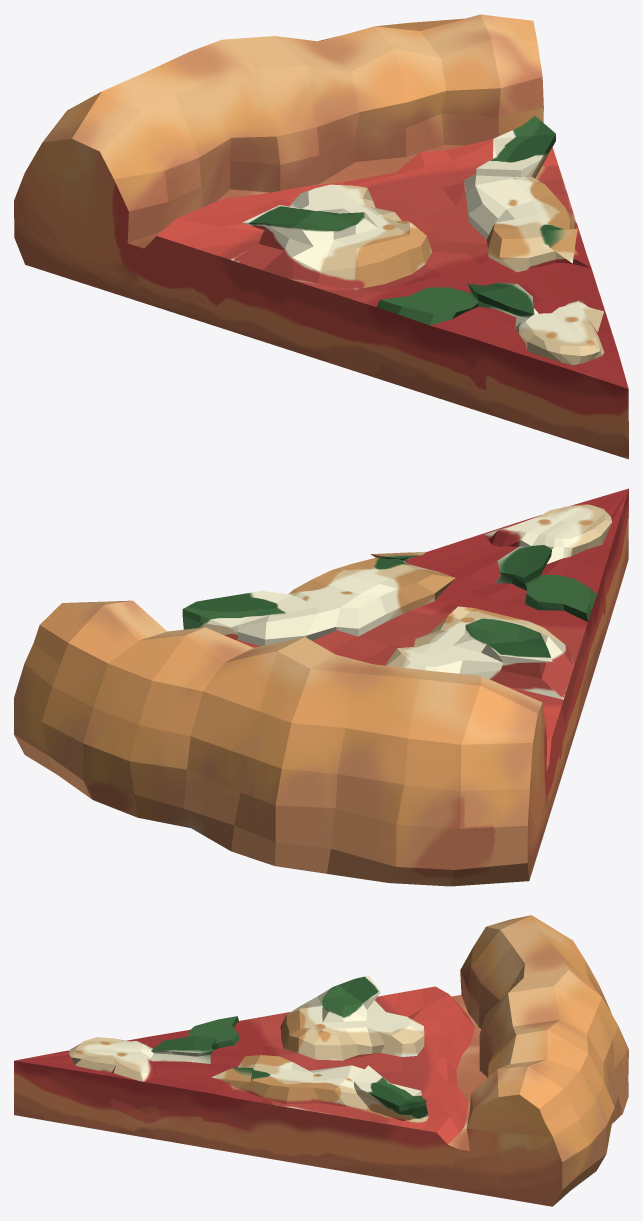
File: pizza_P01.fbx
3 views of the same model, one above another, from view 1: azimuth 30°, elevation 25°; view 2: azimuth 150°, elevation 25°; view 3: azimuth 270°, elevation 25° (orthographic). The views are drawn at different scales.
Visible parts, largest first — view 1: Cylinder.014; view 2: Cylinder.014; view 3: Cylinder.014.
Part boxes in pixels (x1=…): Cylinder.014: x1=14, y1=14, x2=628, y2=459; Cylinder.014: x1=14, y1=488, x2=628, y2=886; Cylinder.014: x1=14, y1=915, x2=628, y2=1206.
Size of the model in its own units: 118 by 37.36 by 161.
Materials: 1 (1 with a texture image).
